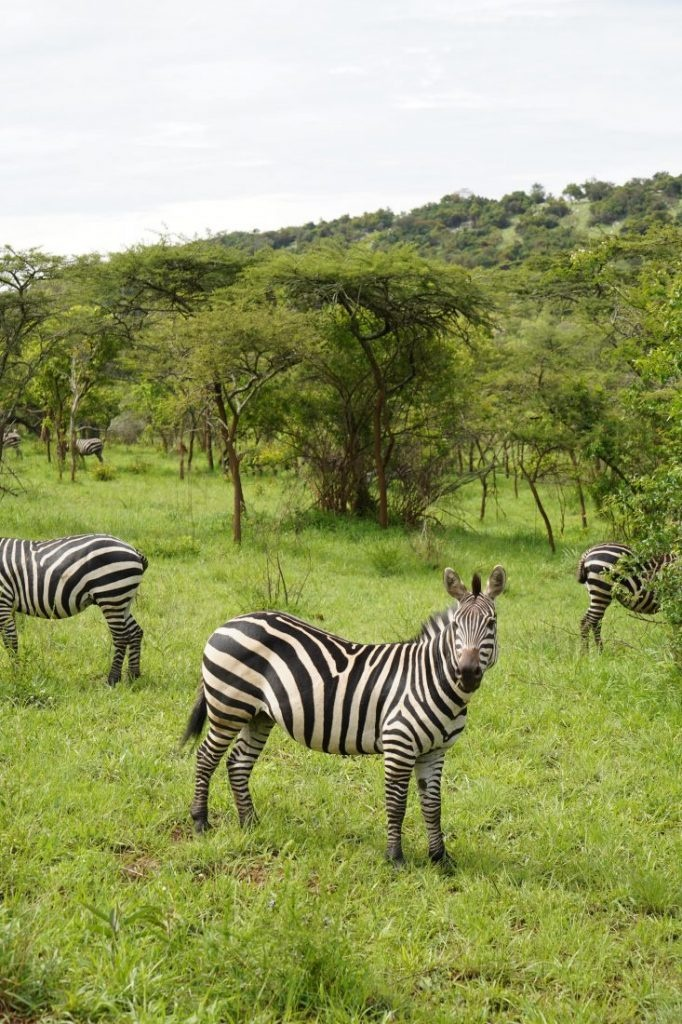zebra: (180, 558, 514, 888), (0, 522, 159, 693), (573, 535, 682, 652), (63, 435, 111, 464)
